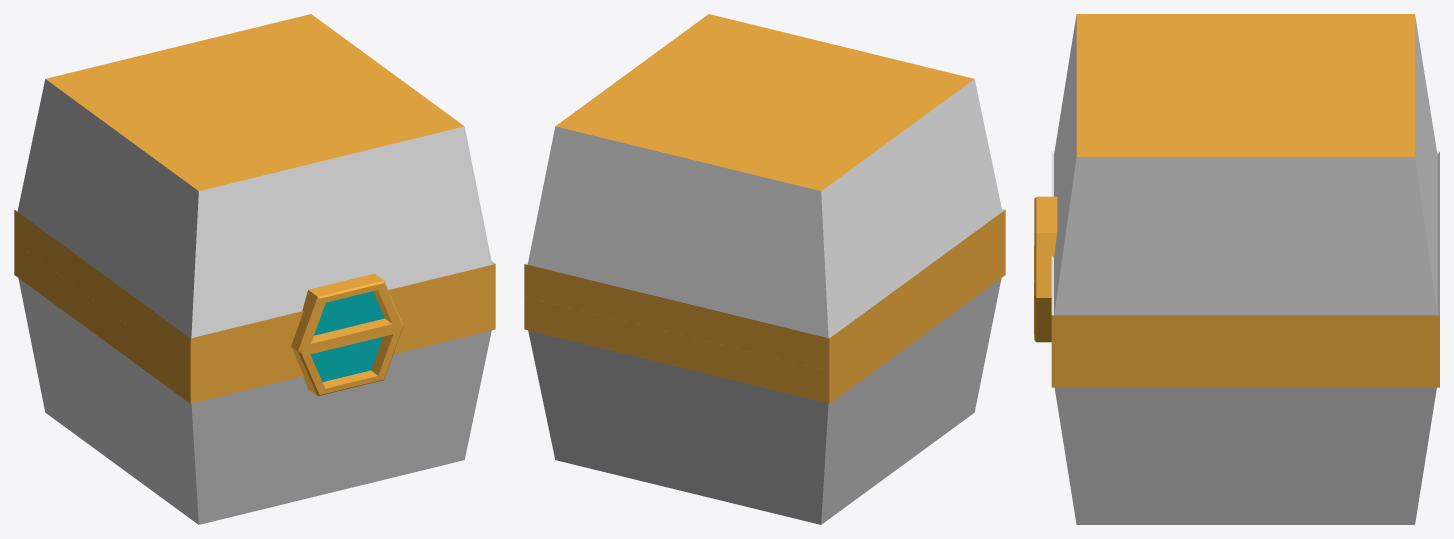
3 renders of one model, left to right at view 1: azimuth 30°, elevation 25°; view 2: azimuth 150°, elevation 25°; view 3: azimuth 270°, elevation 25°, orthographic. The views are drawn at different scales.
Visible parts, largest first — view 1: Coffre haut, Coffre bas, Truc au milieu; view 2: Coffre haut, Coffre bas; view 3: Coffre haut, Coffre bas, Truc au milieu.
Part boxes in pixels (box(x1,y1,x2,y2)): Coffre haut: box(14, 14, 495, 370); Coffre bas: box(14, 242, 495, 524); Truc au milieu: box(291, 273, 403, 396); Coffre haut: box(524, 14, 1005, 370); Coffre bas: box(524, 242, 1005, 524); Coffre haut: box(1051, 14, 1439, 351); Coffre bas: box(1051, 351, 1439, 524); Truc au milieu: box(1034, 196, 1057, 342).
Size of the model in its own units: 1149 by 1201 by 1201.
